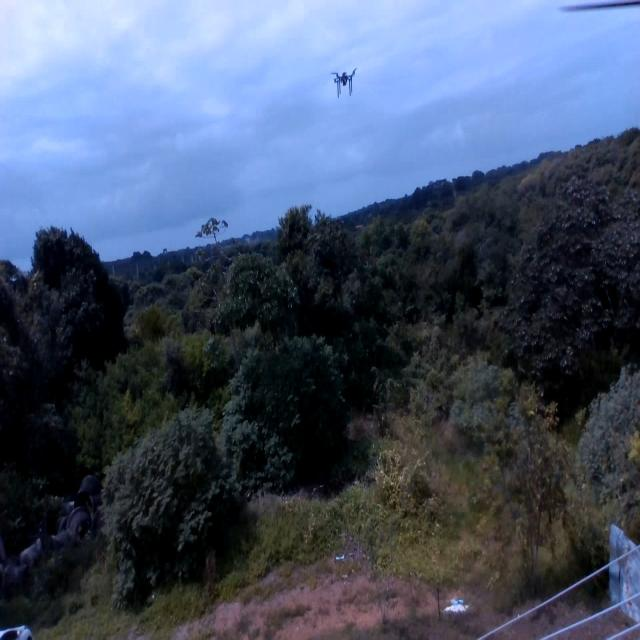-uav-: (325, 58, 366, 104)
